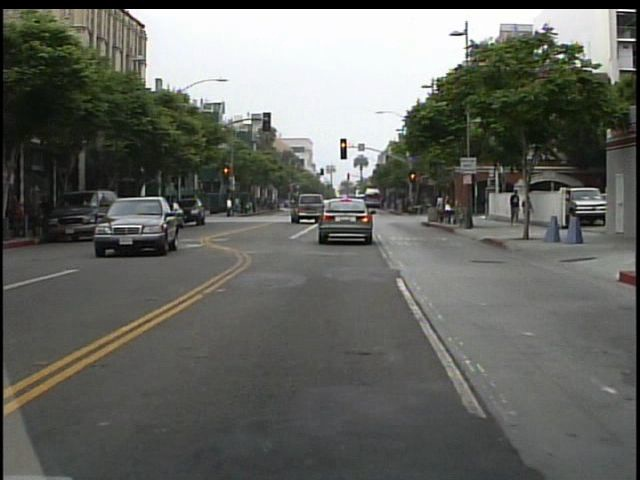person: (508, 186, 524, 228), (433, 189, 451, 225), (520, 189, 535, 226), (225, 193, 236, 219)
